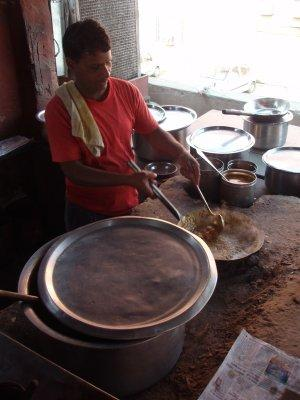person: (46, 19, 201, 231)
